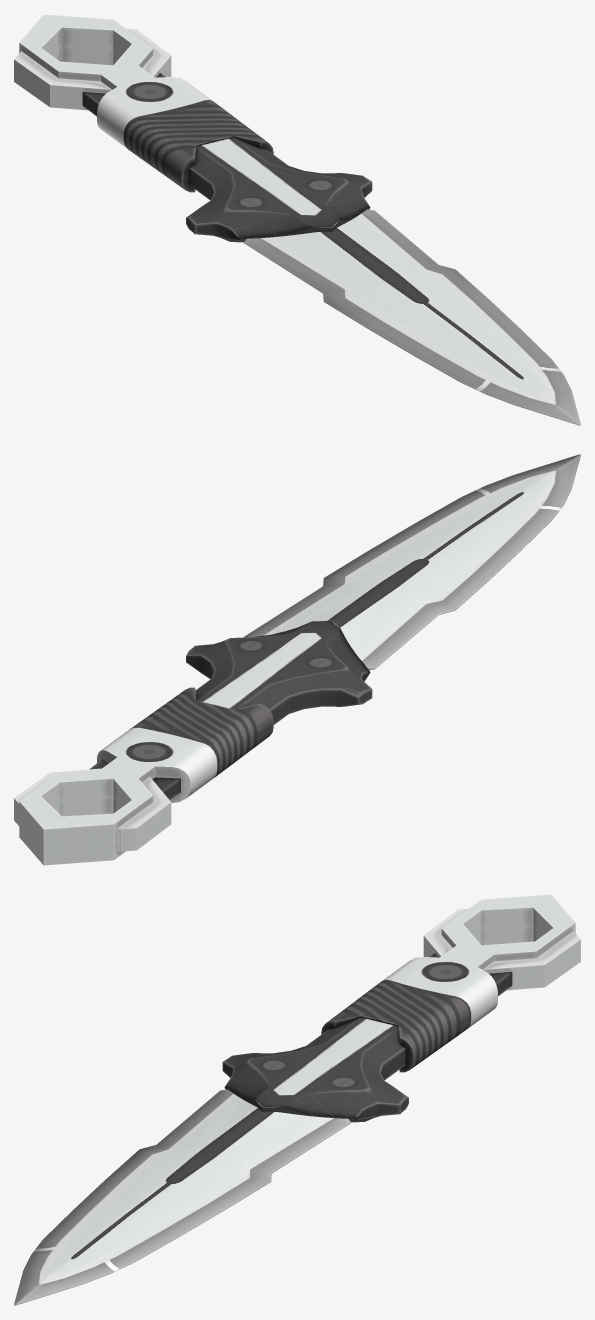
The model's file is MeleePulseBlade03_3.FBX.
The picture shows the model from 3 angles, top to bottom: view 1: azimuth 30°, elevation 25°; view 2: azimuth 150°, elevation 25°; view 3: azimuth 330°, elevation 25°; orthographic projection.
Visible parts, largest first — view 1: MeleePulseBlade03_3; view 2: MeleePulseBlade03_3; view 3: MeleePulseBlade03_3.
Boxes of the visible parts, bbox=[...] form: MeleePulseBlade03_3: bbox=[14, 14, 580, 425]; MeleePulseBlade03_3: bbox=[14, 454, 580, 865]; MeleePulseBlade03_3: bbox=[14, 894, 580, 1305].
Size of what is drawn, in the model's own units: 0.071 by 0.0138 by 0.372.
